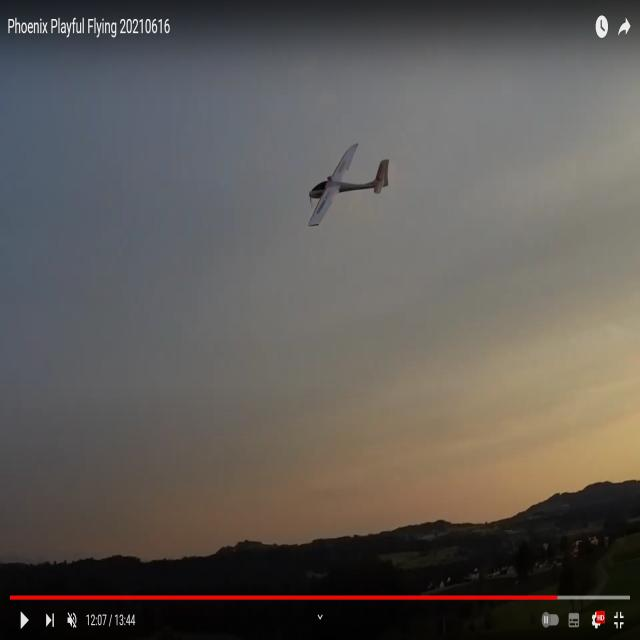iha: (339, 175, 356, 194)
